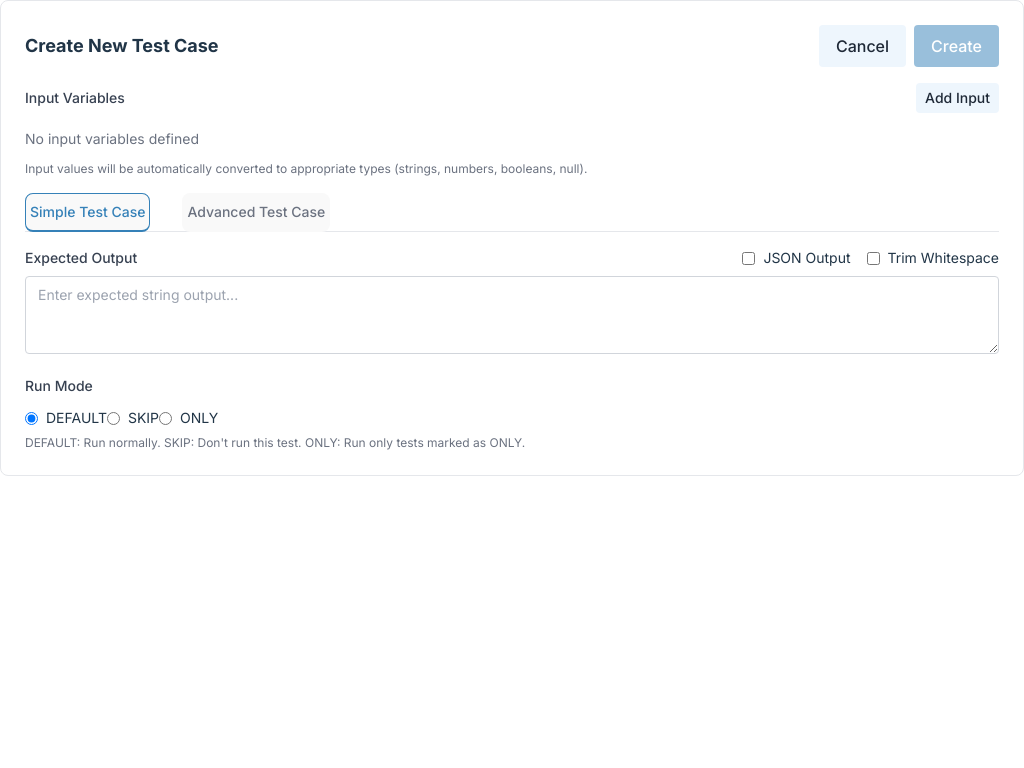
Test: TestCaseEditor › advanced tab: enables create button when at least one assertion is added with path
The image size is (1024, 768).
// Switch to advanced tab
Click the button with test id "advanced-tab" at (256, 212), box x1=182 y1=193 x2=330 y2=232
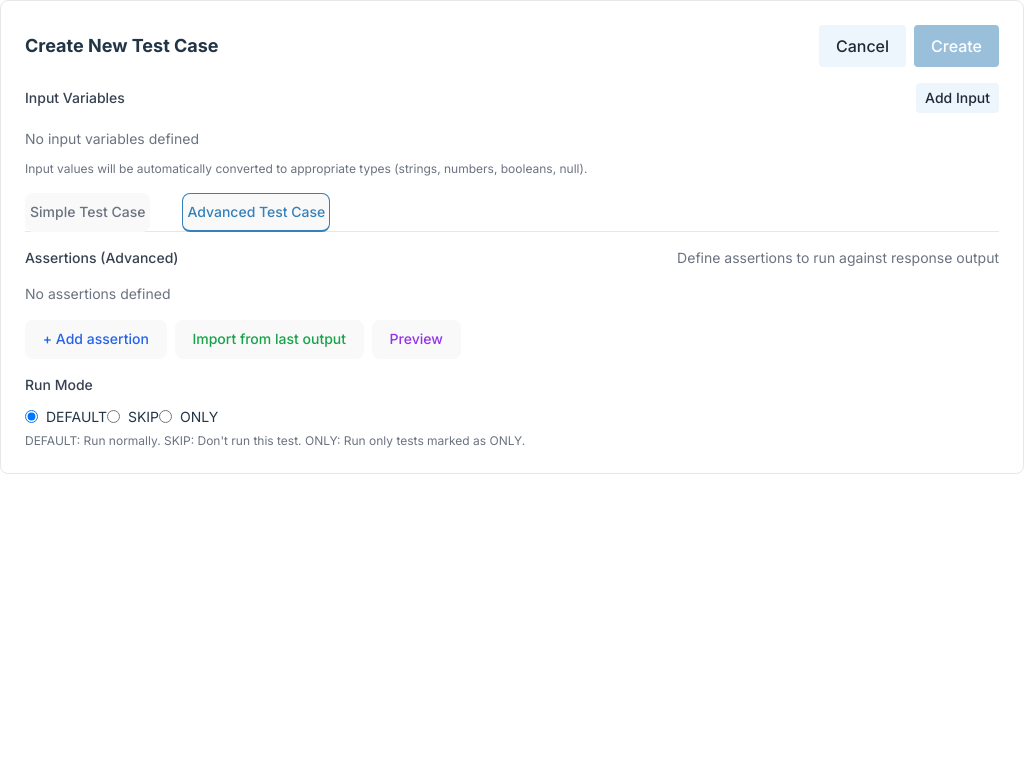
Expected: the button "Create" is disabled, x1=914 y1=25 x2=999 y2=67
Click the button "+ Add assertion" at (96, 339), box x1=25 y1=320 x2=167 y2=359
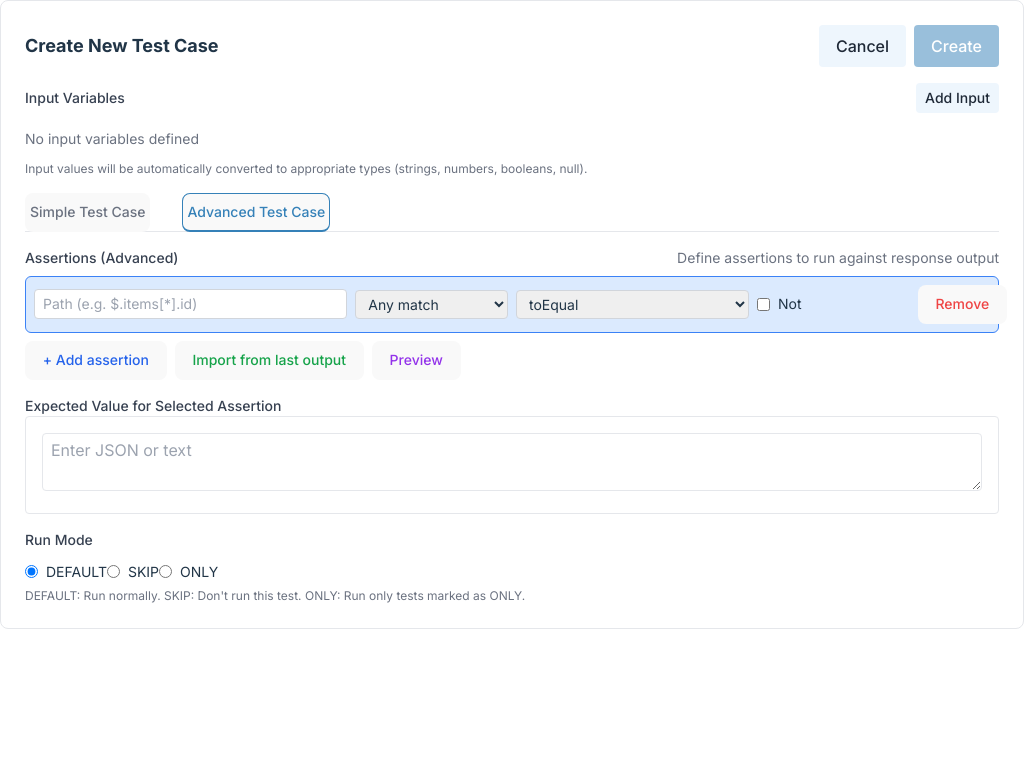
Expected: the button "Create" is disabled, x1=914 y1=25 x2=999 y2=67
// Fill in the path field
Type "$.result" into the field with placeholder "Path (e.g. $.items[*].id)" at (191, 304), box x1=34 y1=289 x2=347 y2=319
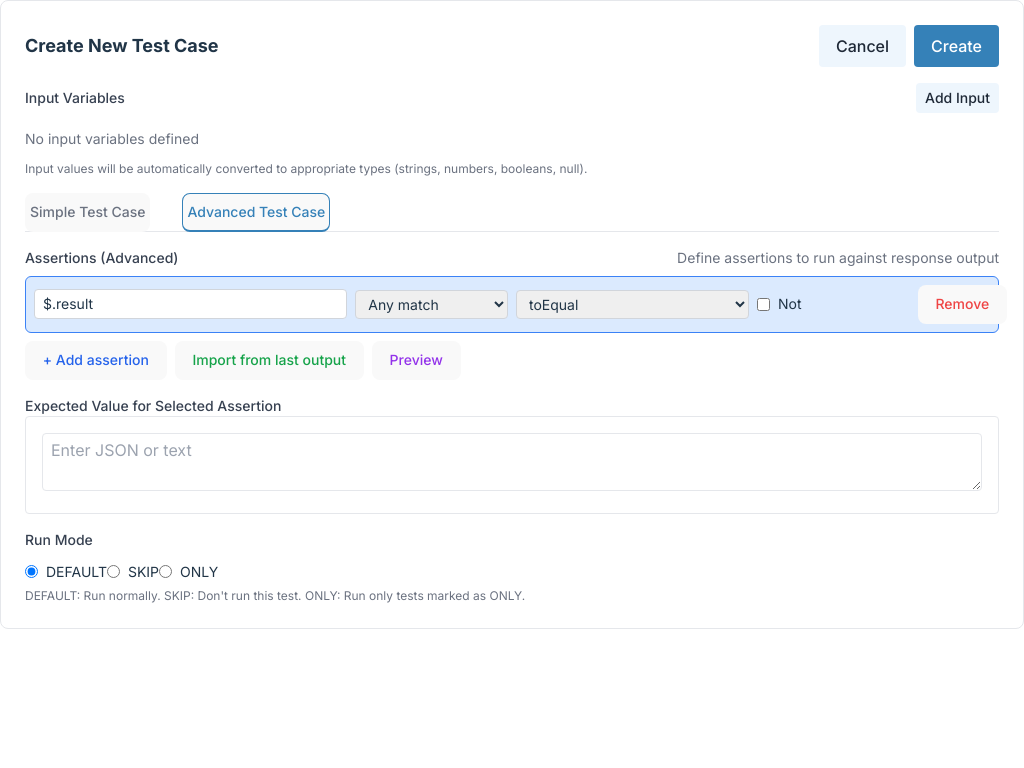
Now the button "Create" is enabled, box x1=914 y1=25 x2=999 y2=67
